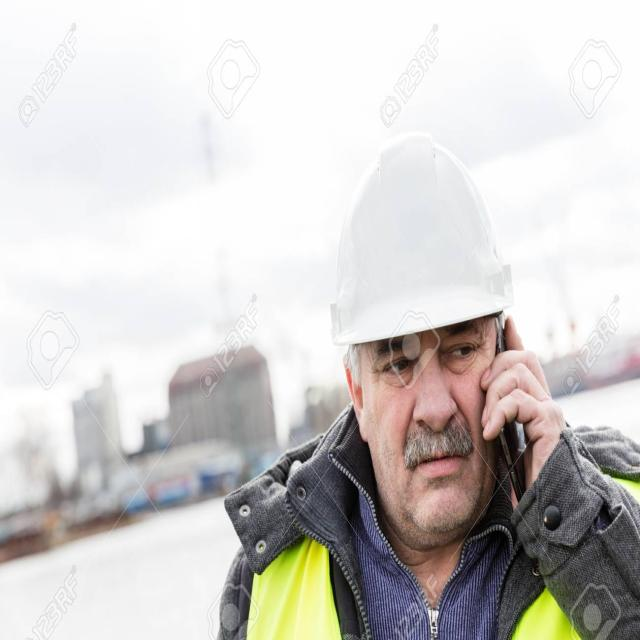helmet: (320, 132, 517, 354)
no-goggles: (364, 331, 506, 397)
vest: (221, 445, 640, 640)
